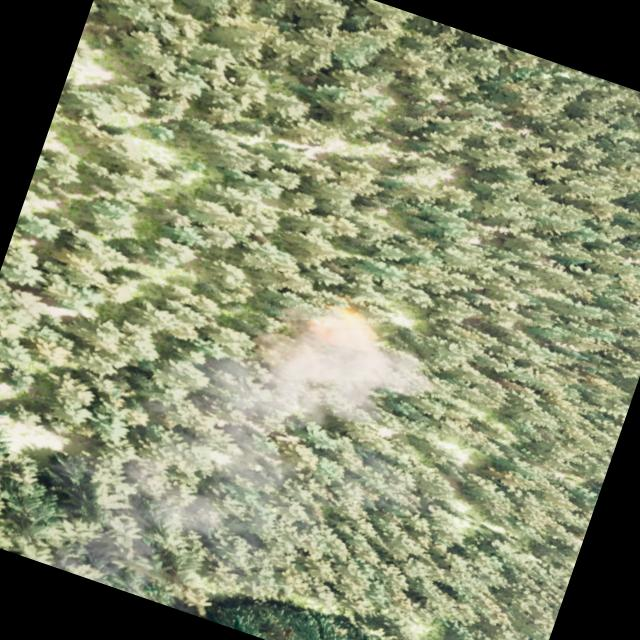smoke: (72, 246, 445, 632)
